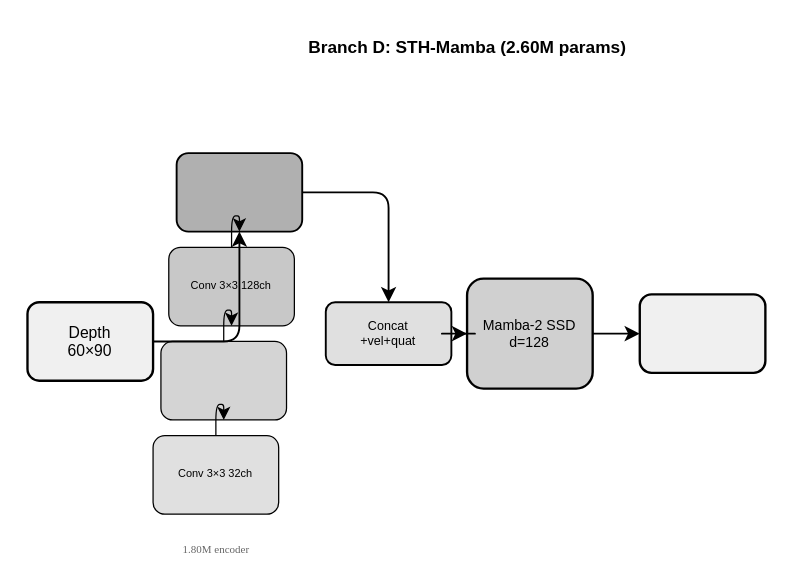
The diagram is 809 pixels wide and 587 high, and some of its shapes have lost their labels. Each missing label, with the box of its shape:
Conv 3×3 64ch: (160, 340, 286, 420)
ST-Mamba scan 256ch: (175, 151, 302, 232)
Velocity (vx,vy,vz): (638, 292, 766, 373)
